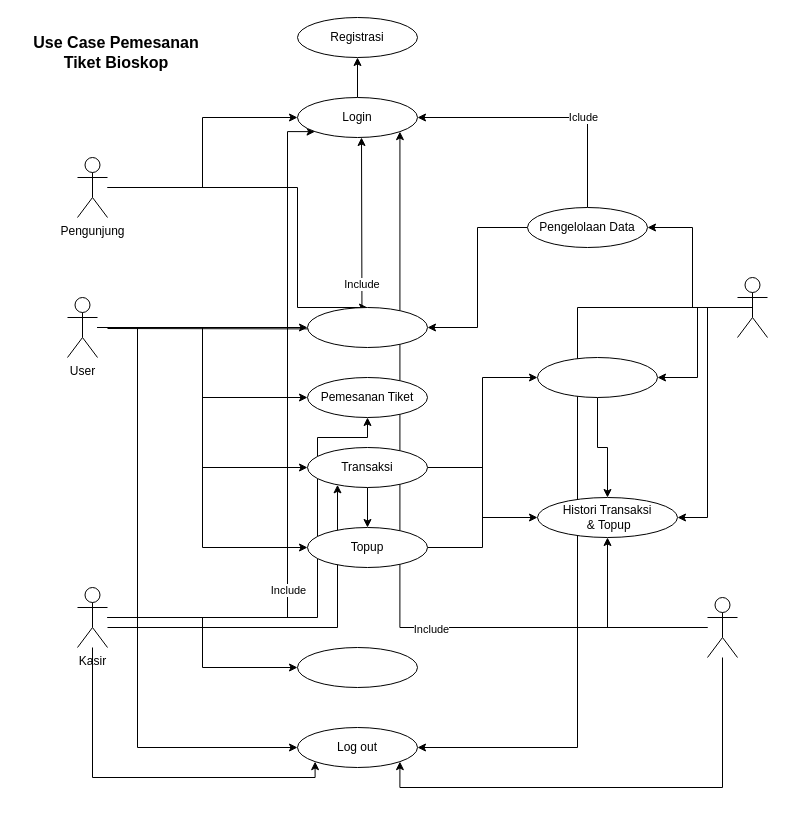
Image size: 786x813. Some labels were removed from this diagram. The box of each missing label's shape, as (x1, y1, x2, y2) in pixels:
Admin: (736, 276, 768, 338)
Cetak Tiket: (296, 646, 418, 688)
Daftar Film: (306, 306, 428, 348)
Manager: (706, 596, 738, 658)
Pengelolaan Topup: (536, 356, 658, 398)
